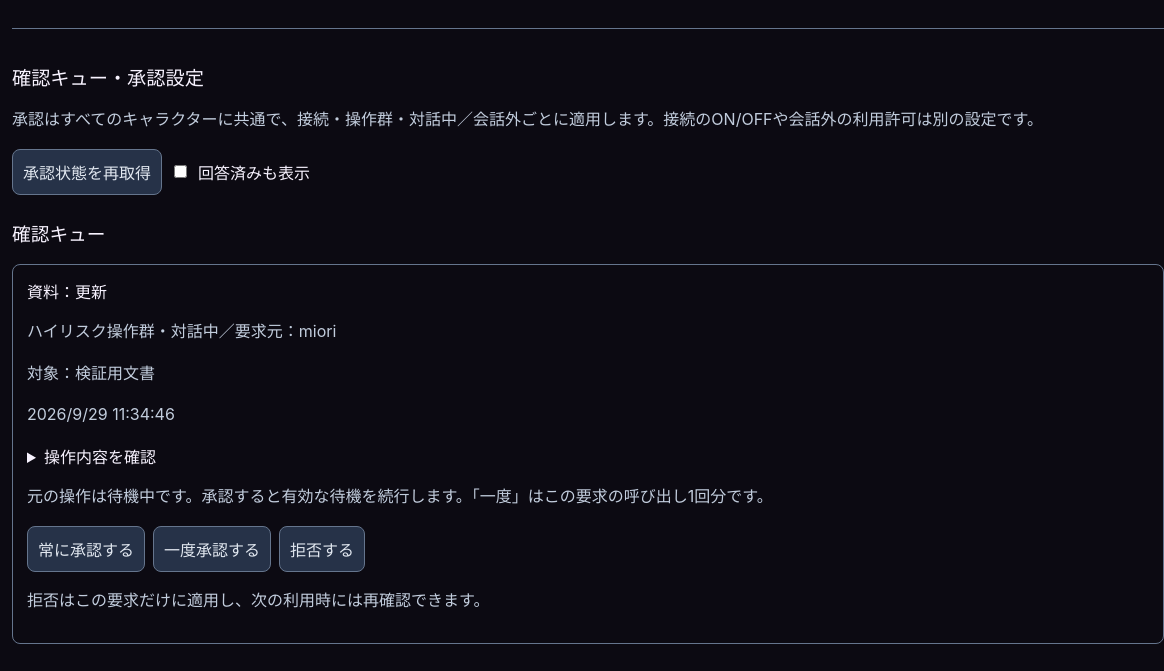
Scenario: 続行失敗は承認の再発行なしに続行だけ再試行できる
This screenshot has width=1164, height=671.
Click the button "一度承認する". click: (212, 549)
box: x1=153 y1=526 x2=271 y2=572
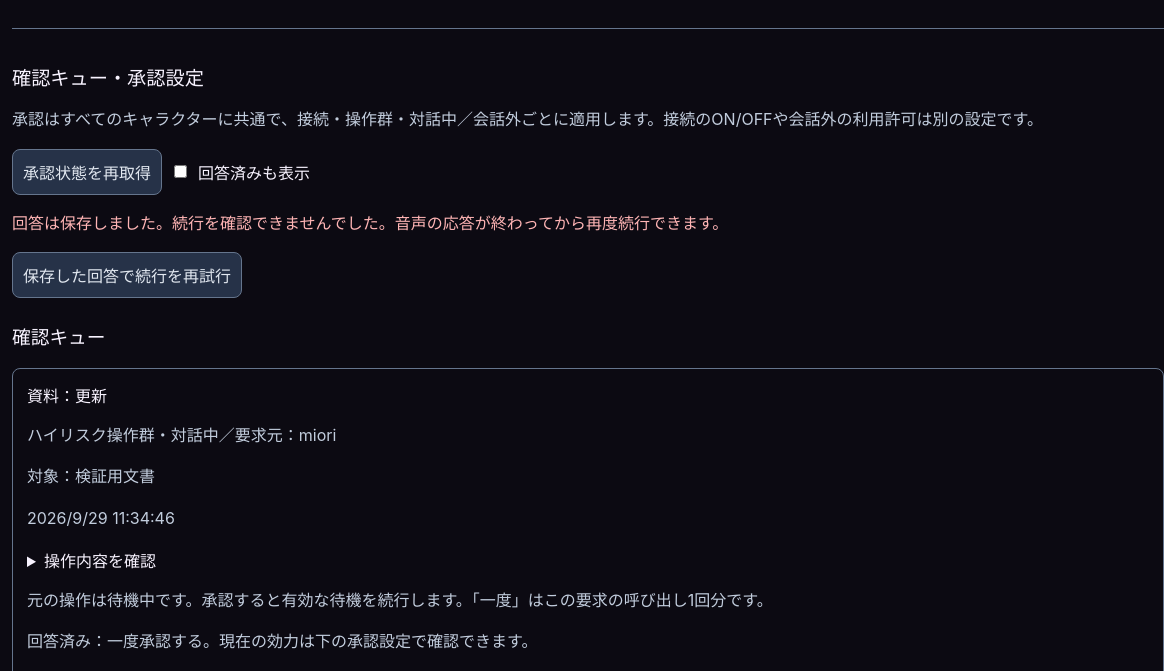
Result: the button "保存した回答で続行を再試行" is enabled
Click the button "保存した回答で続行を再試行". click: (127, 275)
box: x1=12 y1=252 x2=242 y2=298
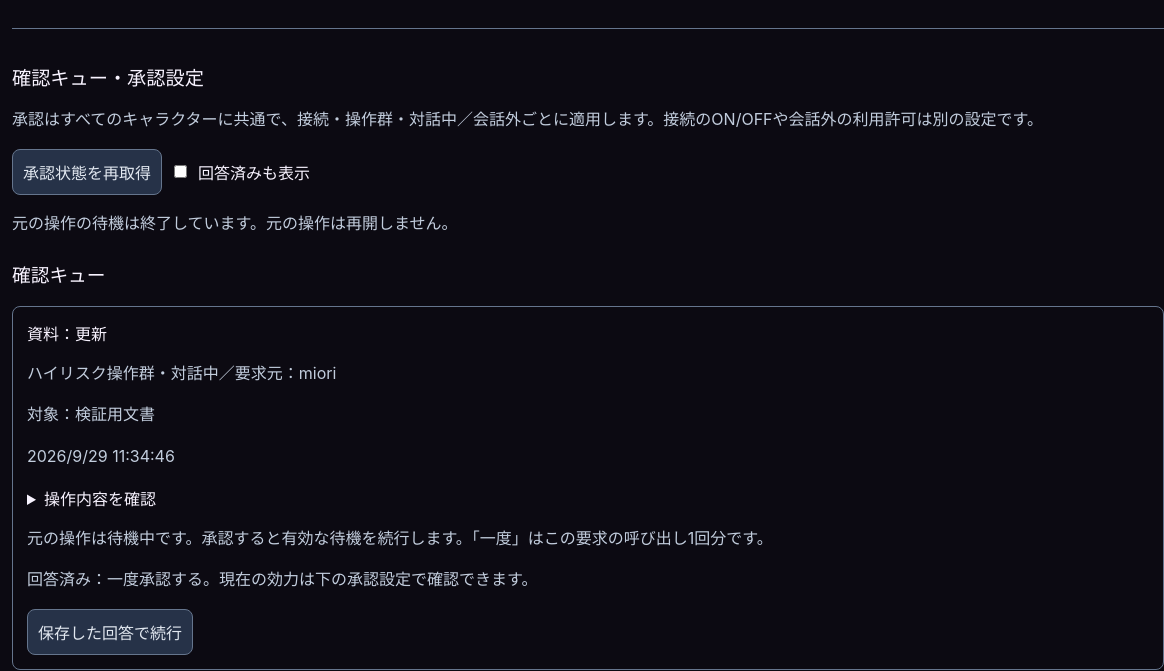
Result: the text "元の操作の待機は終了しています。元の操作は再開しません。" is shown at x1=12 y1=212 x2=458 y2=232
